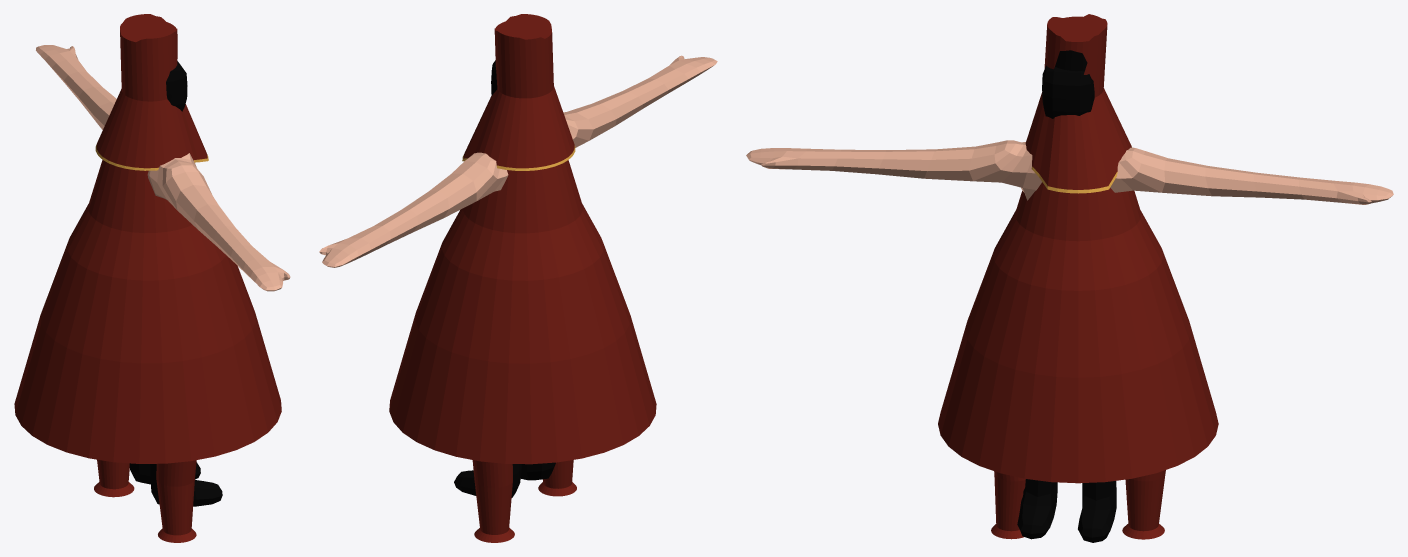
The model's file is UnfinishedPlayer.fbx.
3 views of the same model, side by side, from view 1: azimuth 30°, elevation 25°; view 2: azimuth 150°, elevation 25°; view 3: azimuth 270°, elevation 25° (orthographic). The views are drawn at different scales.
Parts seen in each view (by area): view 1: Cylinder, Person; view 2: Cylinder, Person; view 3: Cylinder, Person.
Boxes of the visible parts, <box> form: Cylinder: <box>14,14,281,542</box>; Person: <box>36,45,290,506</box>; Cylinder: <box>389,14,656,542</box>; Person: <box>319,55,717,497</box>; Cylinder: <box>938,14,1218,539</box>; Person: <box>746,65,1393,542</box>.
Size of the model in its own units: 330 by 659 by 761.
